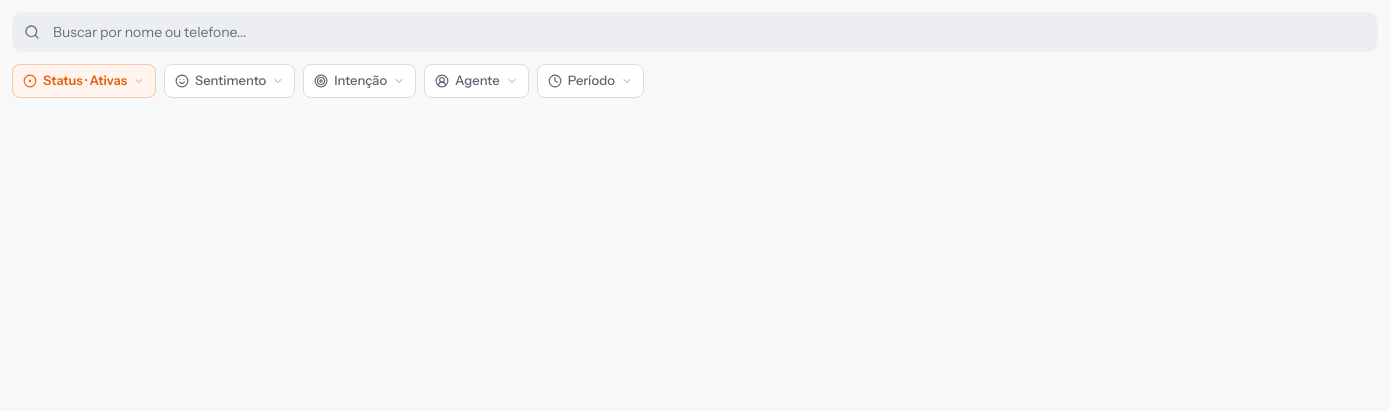
ConversationFiltersCompact — chip-trigger › abrir chip Status mostra Ativas, Arquivadas, Todas e status individuais
Click the button "Status · Ativas".
click(84, 81)  # box [12, 64, 156, 98]
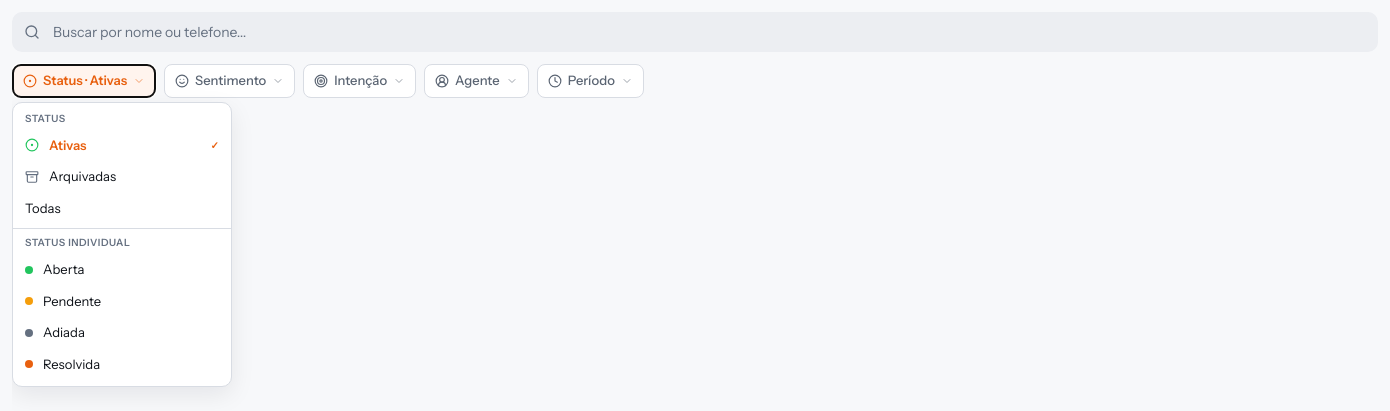
expect the button "Ativas ✓" is shown: met, box [13, 130, 231, 161]
expect the button "Arquivadas" is shown: met, box [13, 161, 231, 192]
expect the button "Aberta" is shown: met, box [13, 254, 231, 286]
